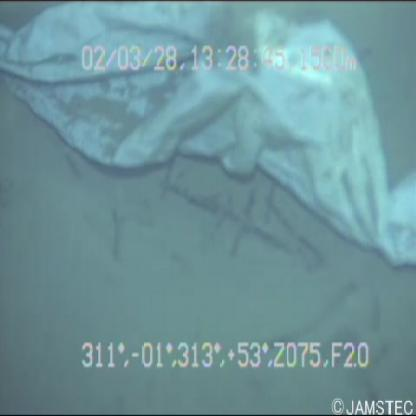Rác: (1, 2, 415, 280)
